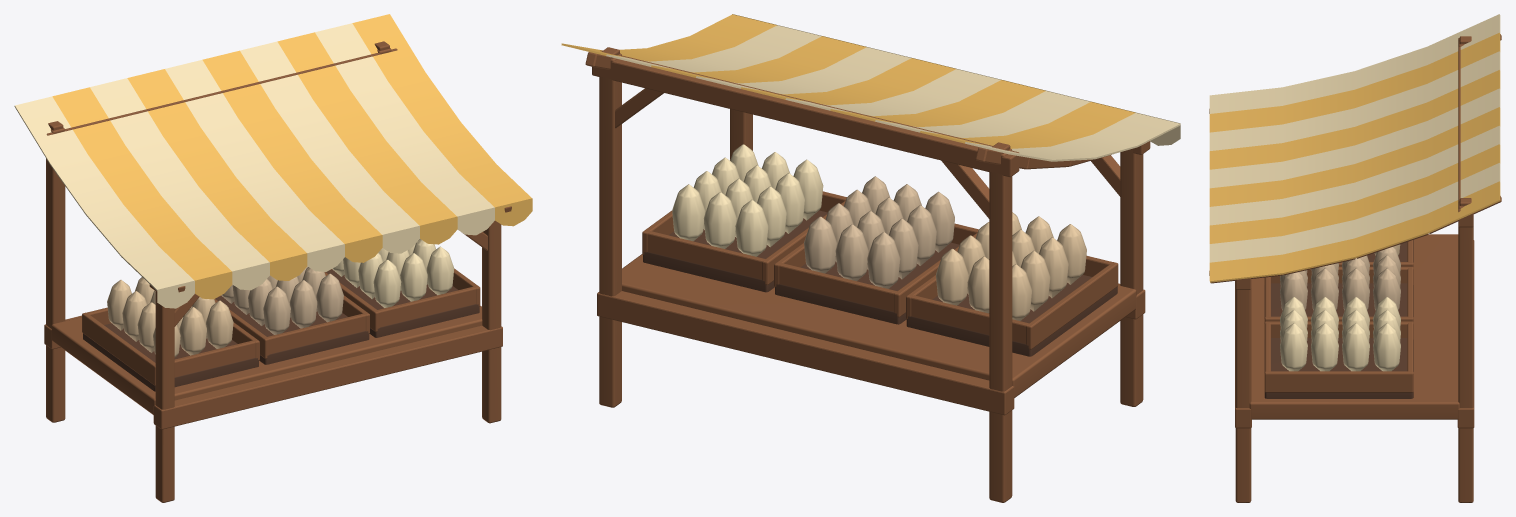
File: ashwick-supplies-market-stall.meshopt.glb
3 renders of one model, left to right at view 1: azimuth 30°, elevation 25°; view 2: azimuth 150°, elevation 25°; view 3: azimuth 270°, elevation 25°, orthographic. The views are drawn at different scales.
Parts seen in each view (by area): view 1: Striped canvas.002, Striped canvas.003, Stall posts.001, Counter apron.001, Counter.001, Display trays.001, Tray side lips.001, Market stock.003, Market stock.005, Market stock.004, Tray end lips.001, Sewn valance.002 (+2 smaller); view 2: Stall posts.001, Striped canvas.002, Striped canvas.003, Counter.001, Counter apron.001, Market stock.004, Market stock.005, Awning bearer.001, Market stock.003, Tray side lips.001, Display trays.001, Tray end lips.001 (+2 smaller); view 3: Striped canvas.003, Striped canvas.002, Counter.001, Stall posts.001, Market stock.005, Tray end lips.001, Market stock.004, Display trays.001, Tray side lips.001, Counter apron.001, Awning bearer.001, Canvas side ribs.001.
Boxes of the visible parts, x1,y1,x2,y2 form: Striped canvas.002: [14, 23, 494, 290]; Striped canvas.003: [52, 14, 531, 280]; Stall posts.001: [46, 48, 501, 502]; Counter apron.001: [44, 315, 502, 429]; Counter.001: [51, 306, 482, 414]; Display trays.001: [83, 269, 479, 391]; Tray side lips.001: [86, 269, 476, 377]; Market stock.003: [107, 277, 233, 357]; Market stock.005: [332, 239, 454, 307]; Market stock.004: [221, 266, 343, 334]; Tray end lips.001: [82, 268, 480, 385]; Sewn valance.002: [157, 207, 494, 308]; Stall posts.001: [599, 53, 1143, 502]; Striped canvas.002: [606, 25, 1180, 161]; Striped canvas.003: [561, 14, 1135, 148]; Counter.001: [622, 254, 1136, 397]; Counter apron.001: [597, 283, 1145, 415]; Market stock.004: [804, 176, 954, 288]; Market stock.005: [672, 144, 823, 256]; Awning bearer.001: [592, 50, 1150, 177]; Market stock.003: [936, 212, 1086, 320]; Tray side lips.001: [646, 191, 1114, 343]; Display trays.001: [643, 210, 1117, 356]; Tray end lips.001: [642, 200, 1118, 349]; Striped canvas.003: [1209, 32, 1500, 282]; Striped canvas.002: [1209, 14, 1500, 262]; Counter.001: [1249, 234, 1459, 419]; Stall posts.001: [1235, 39, 1473, 502]; Market stock.005: [1280, 297, 1400, 371]; Tray end lips.001: [1264, 262, 1413, 392]; Market stock.004: [1280, 246, 1400, 310]; Display trays.001: [1264, 240, 1413, 398]; Tray side lips.001: [1265, 240, 1413, 371]; Counter apron.001: [1235, 240, 1474, 428]; Awning bearer.001: [1235, 38, 1473, 289]; Canvas side ribs.001: [1209, 34, 1501, 283].
Bounding box in the file's own units: 3.4 × 2.67 × 2.26.
